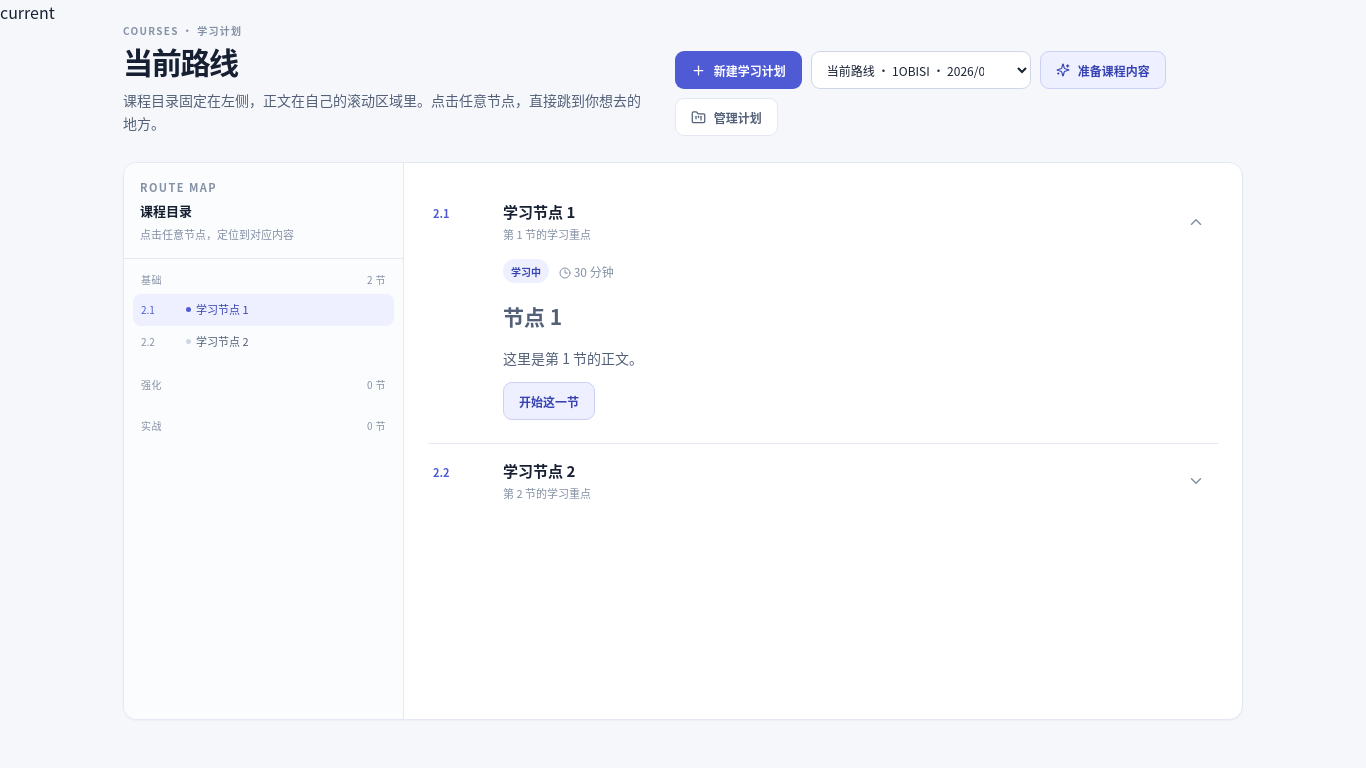
Test: learning plan creation entry › recovers from a project-list refresh failure without generating twice
Click the button "新建学习计划": (738, 70) [675,51,802,89]
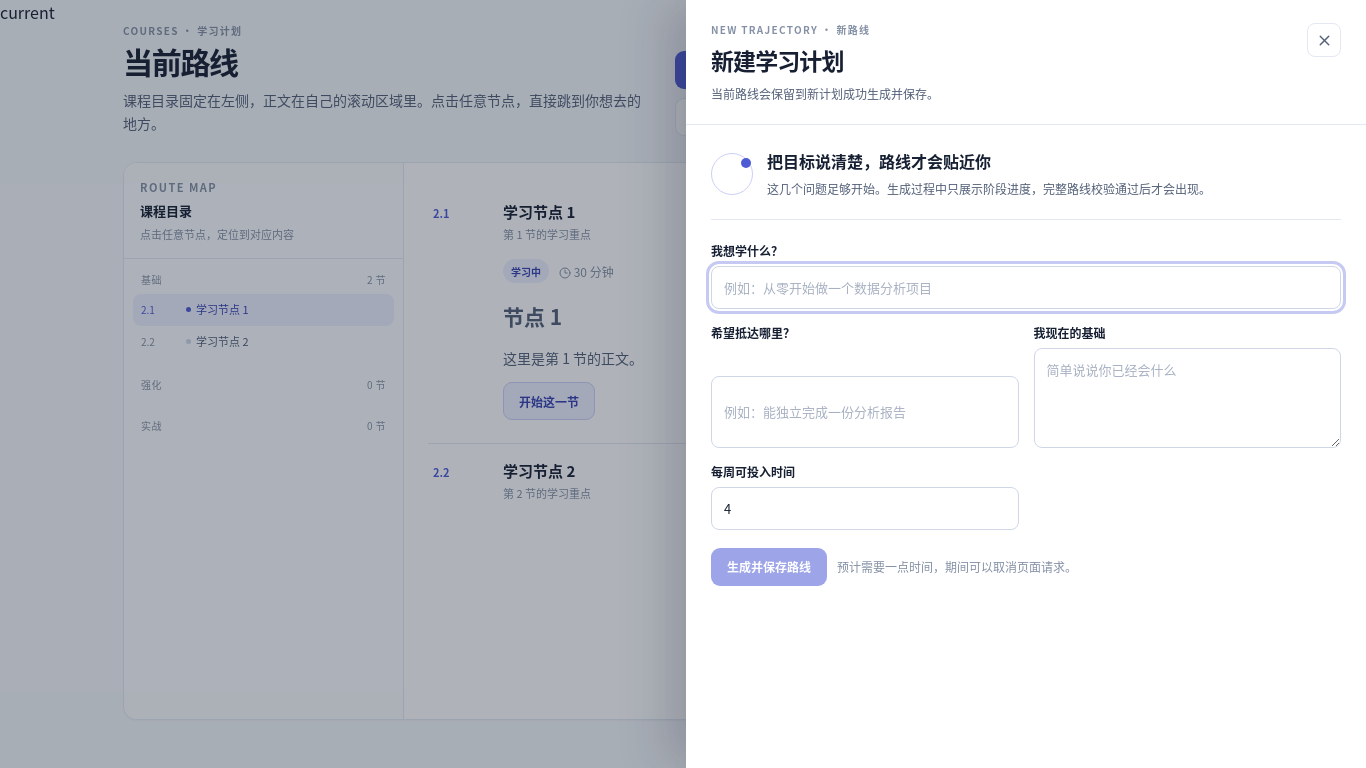
In the field labelled "我想学什么？": (1026, 287) [711,266,1341,309], type "数据分析"
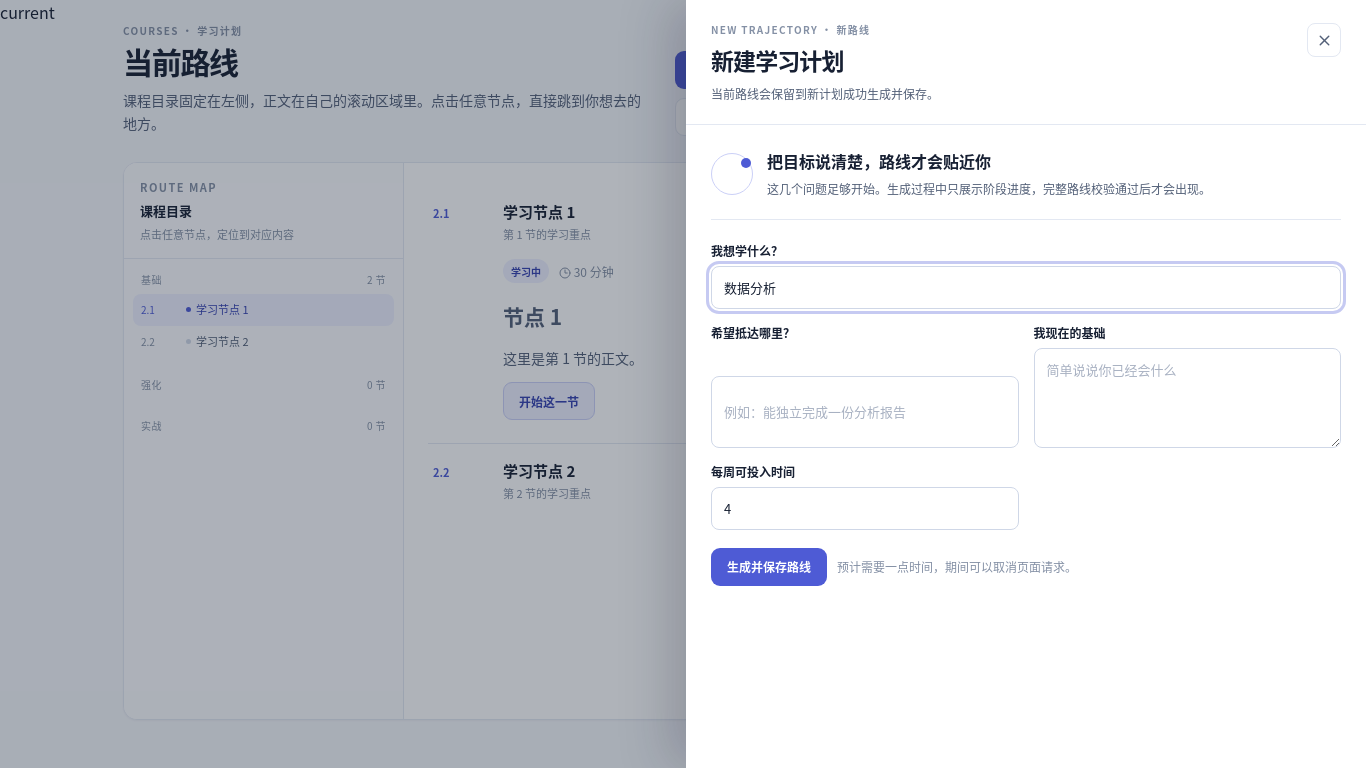
Click the button "生成并保存路线": (769, 567) [711,548,827,586]
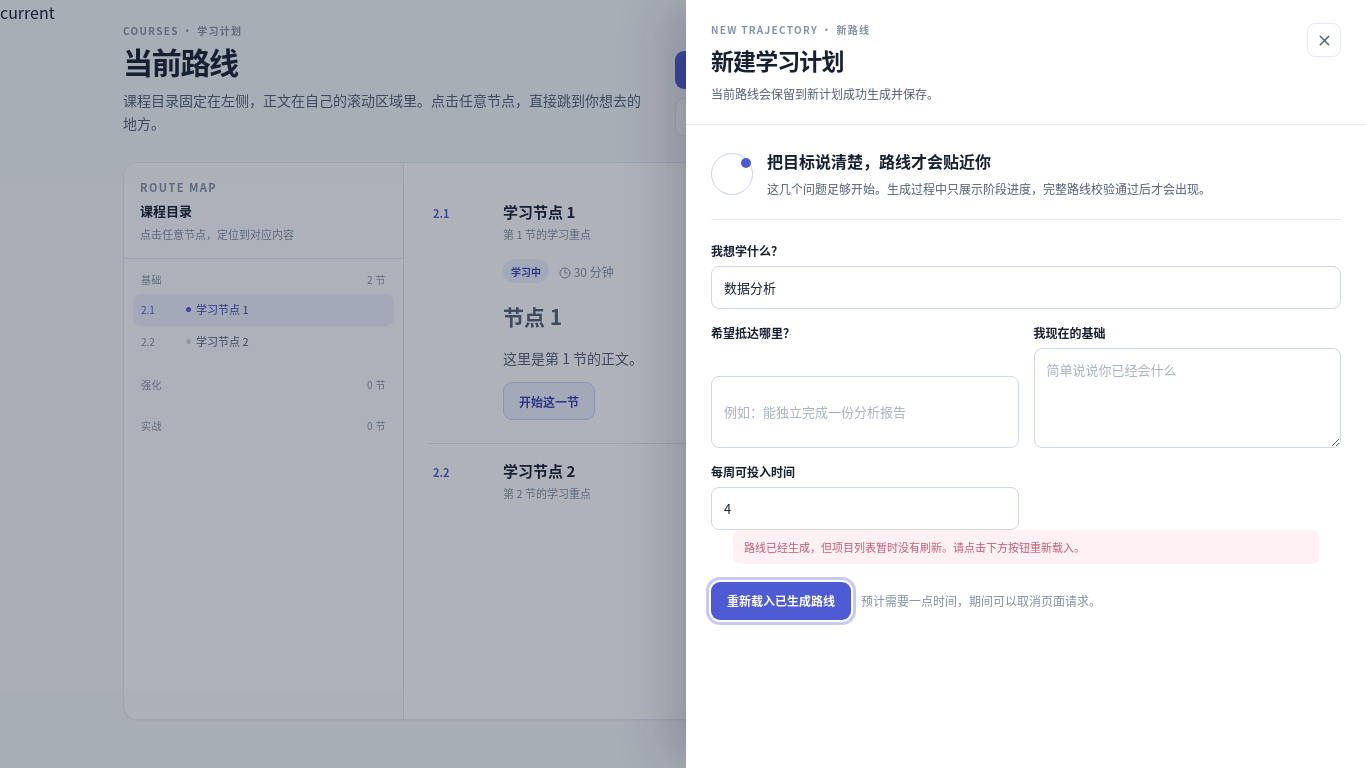
Expected: the text named "当前选择" reads "current", [0,0,55,24]
Expected: the button "重新载入已生成路线" is enabled
Expected: the message shows "项目列表暂时没有刷新", [744,539,1085,555]
Click the button "重新载入已生成路线": (781, 601) [711,582,851,620]
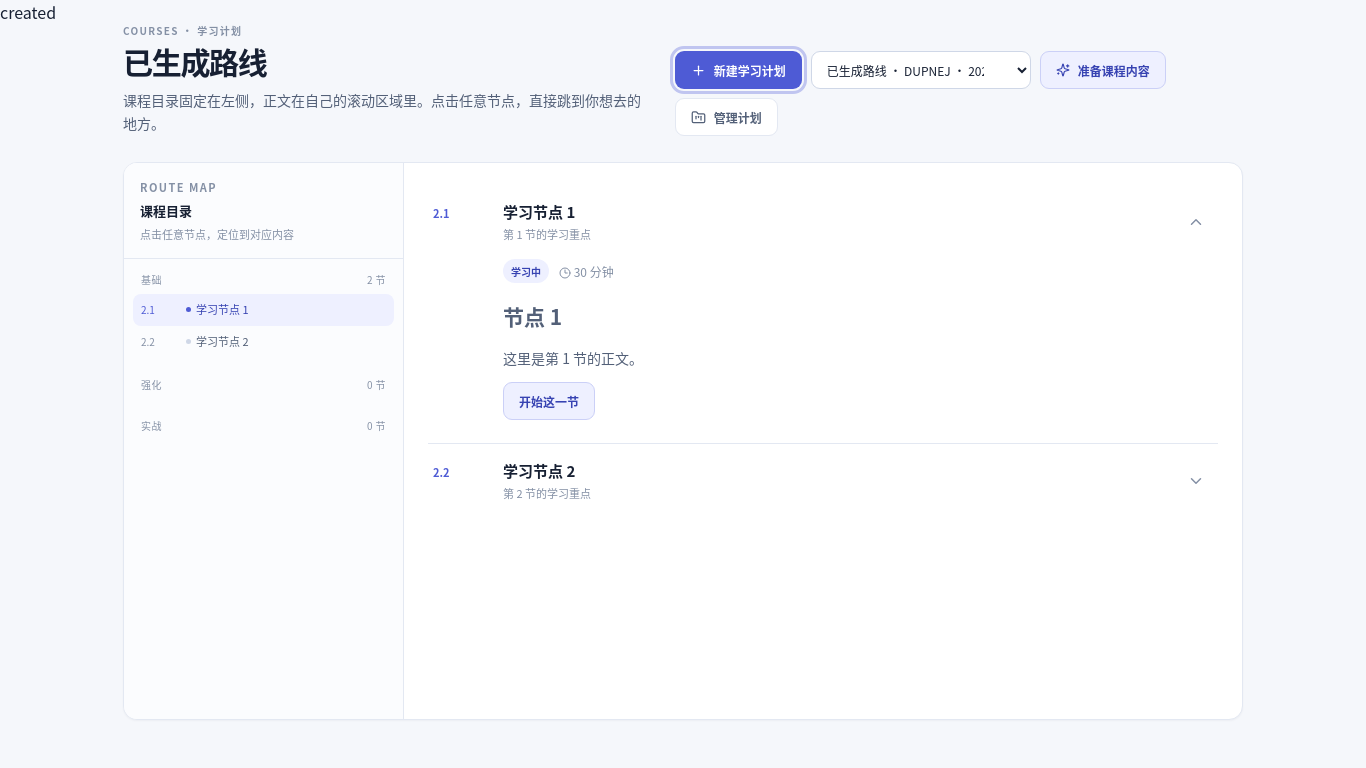
Expected: the text named "当前选择" reads "created", [0,0,56,24]
